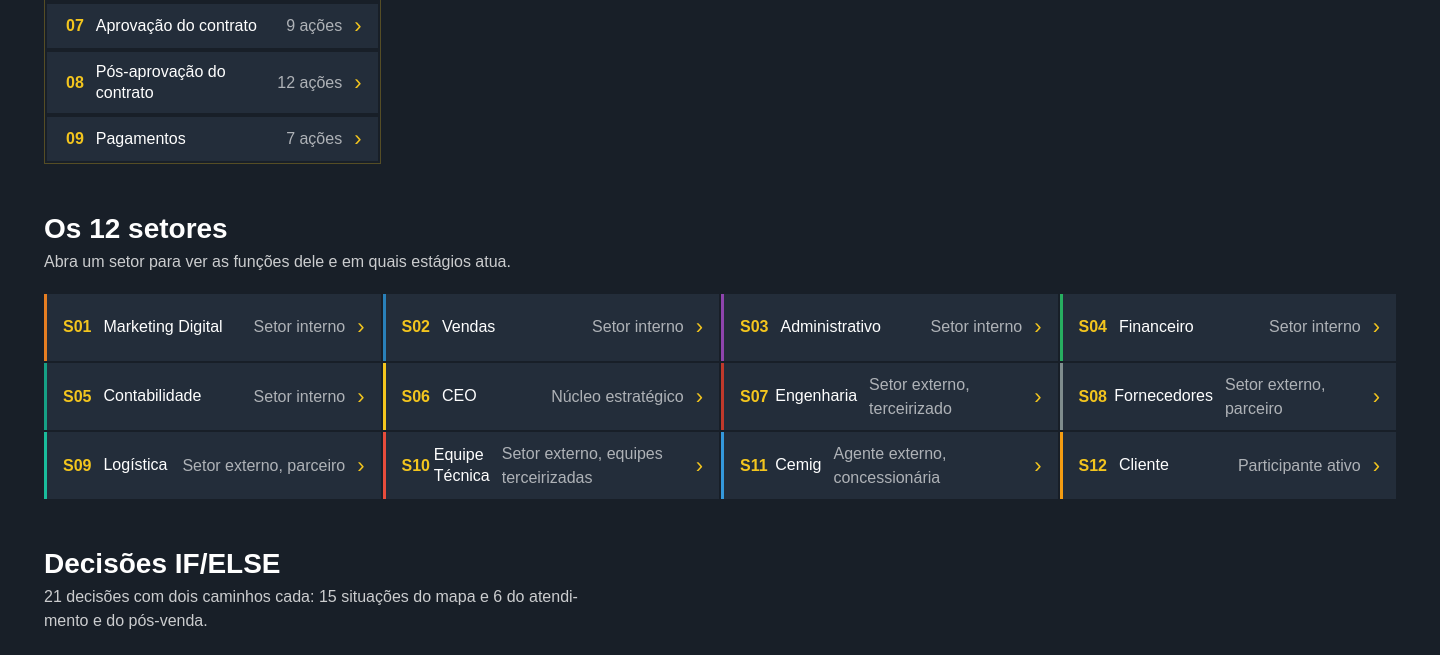
tela MMO renderizada › é orientada a dados: mudar a Matriz muda a tela (números, textos e setores), sem nada fixo no código
(page scrolled)
Click the button "S01 Marketing Digital Setor interno ›": (212, 327) [44,294,380,361]
(page scrolled)
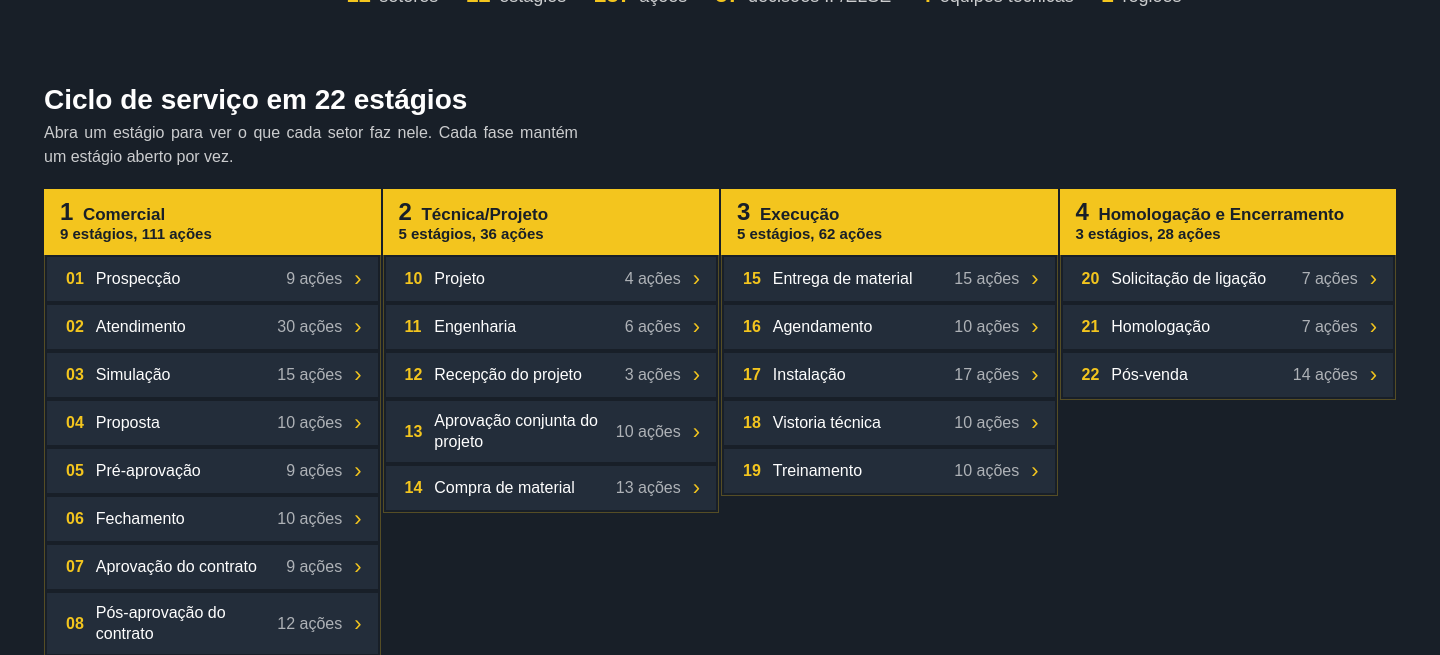
Click the button "02 Atendimento 30 ações ›": (141, 326) [47,305,378,349]
(page scrolled)
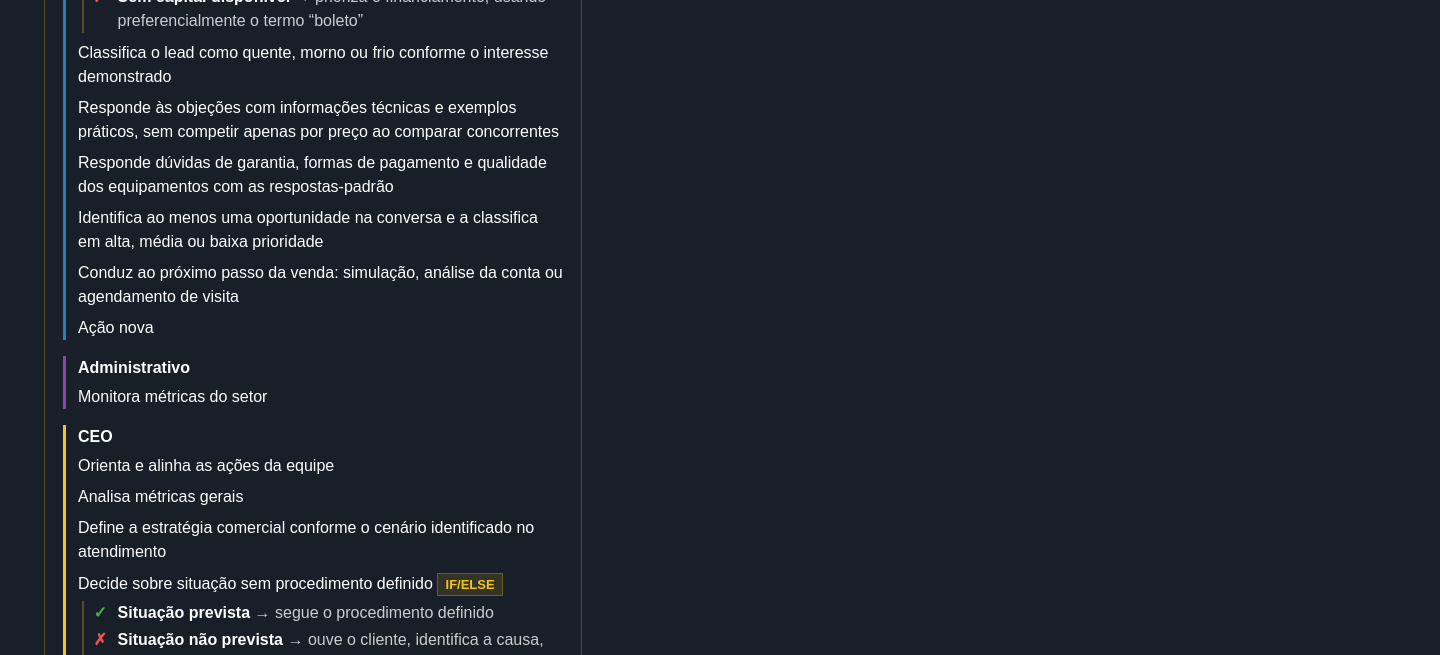
Now the text "Ação nova" is shown, box [78,320,154,336]
